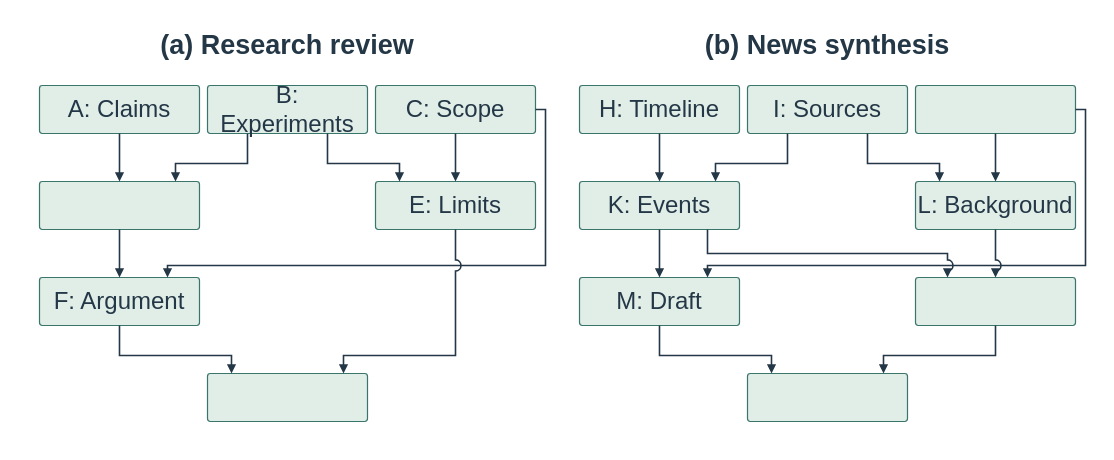
Image size: 1114x460. Some labels were removed from this diagram. Here are the shapes that lost their labels. From the top down, the centre of each, then its label:
the point at 995,109: J: Context
the point at 119,205: D: Alignment
the point at 995,301: N: Evidence
the point at 287,397: G: Review
the point at 827,397: O: Edit
